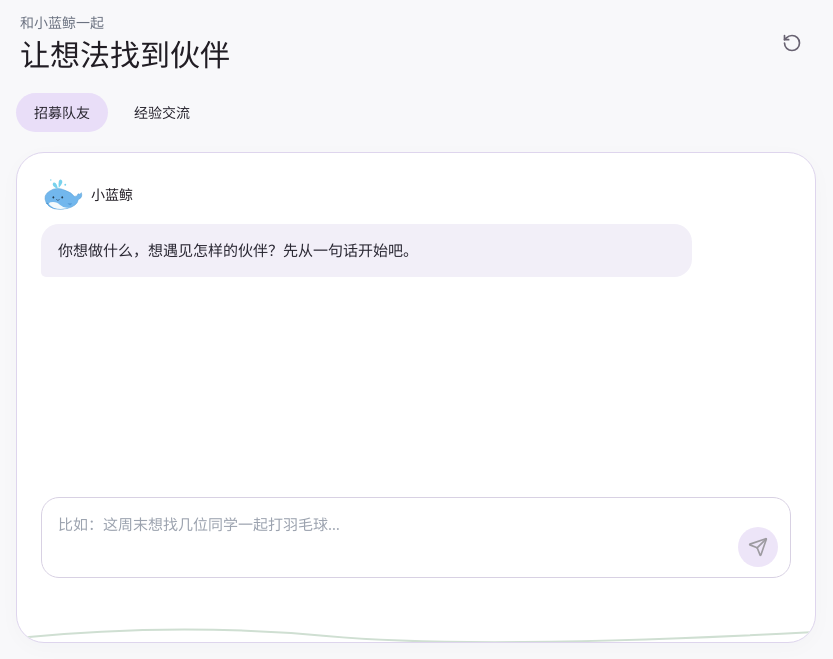
Test case: conversational publishing › retains conversation on error and retries without duplicating the user message
The image size is (833, 659).
Type "周末想打羽毛球" into the text box named "描述你的想法" at (392, 538), box [58,508,726,567]
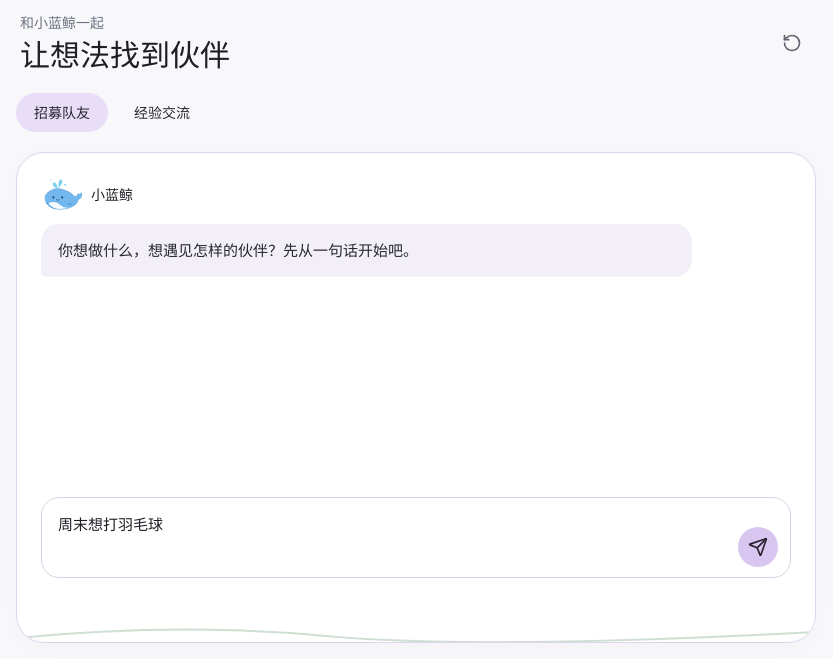
Click the button named "发送" at (758, 547), box [738,527,778,567]
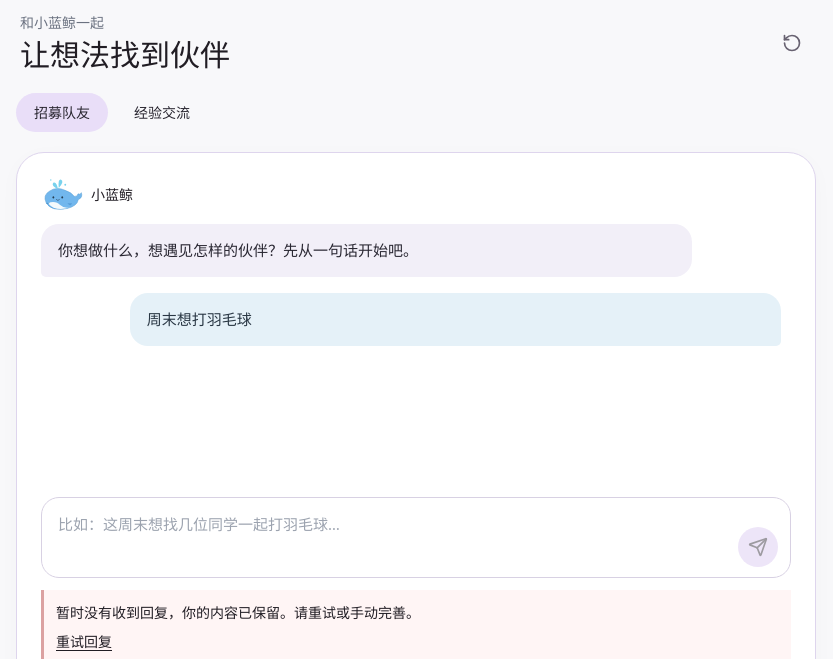
Click the button "重试回复" at (84, 642), box [56,631,112,652]
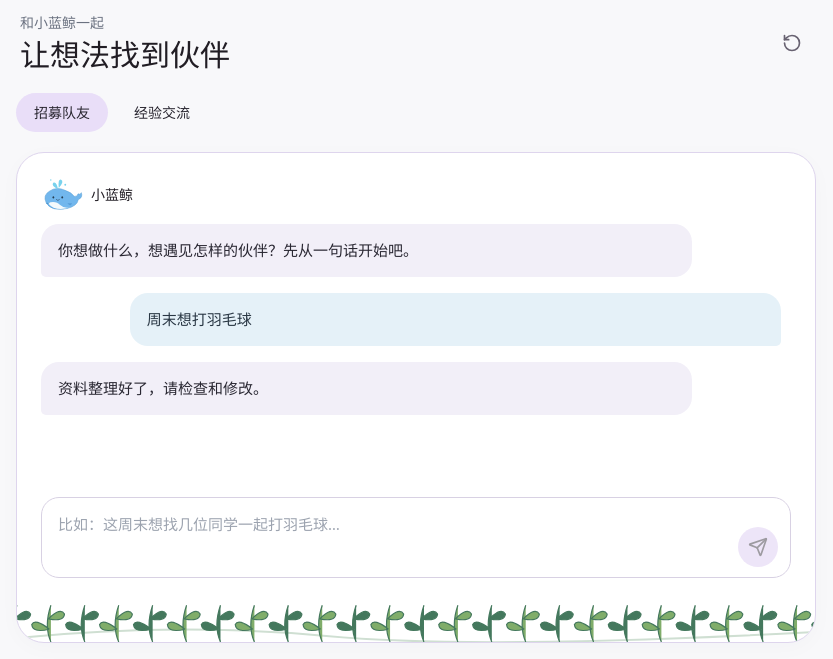
Expected: the text "周末想打羽毛球" is shown once, [130,294,781,346]
